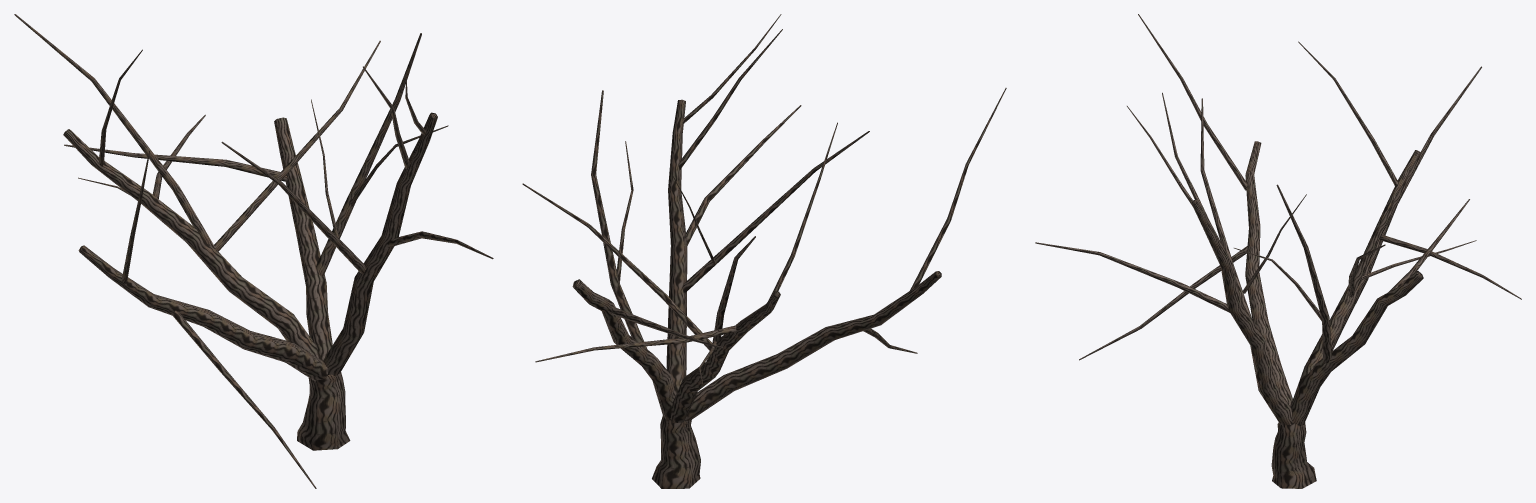
The model's file is dead_standing-b.lod1.glb.
The picture shows the model from 3 angles, left to right: view 1: azimuth 30°, elevation 25°; view 2: azimuth 150°, elevation 25°; view 3: azimuth 270°, elevation 25°; orthographic projection. The views are drawn at different scales.
Visible parts, largest first — view 1: bark; view 2: bark; view 3: bark.
Part boxes in pixels (left/top/right/bottom): bark: left=14, top=14, right=493, bottom=488; bark: left=522, top=14, right=1006, bottom=488; bark: left=1035, top=14, right=1521, bottom=488.
Bounding box in the file's own units: 7.18 × 8 × 9.48.
Materials: 1 (1 with a texture image).
